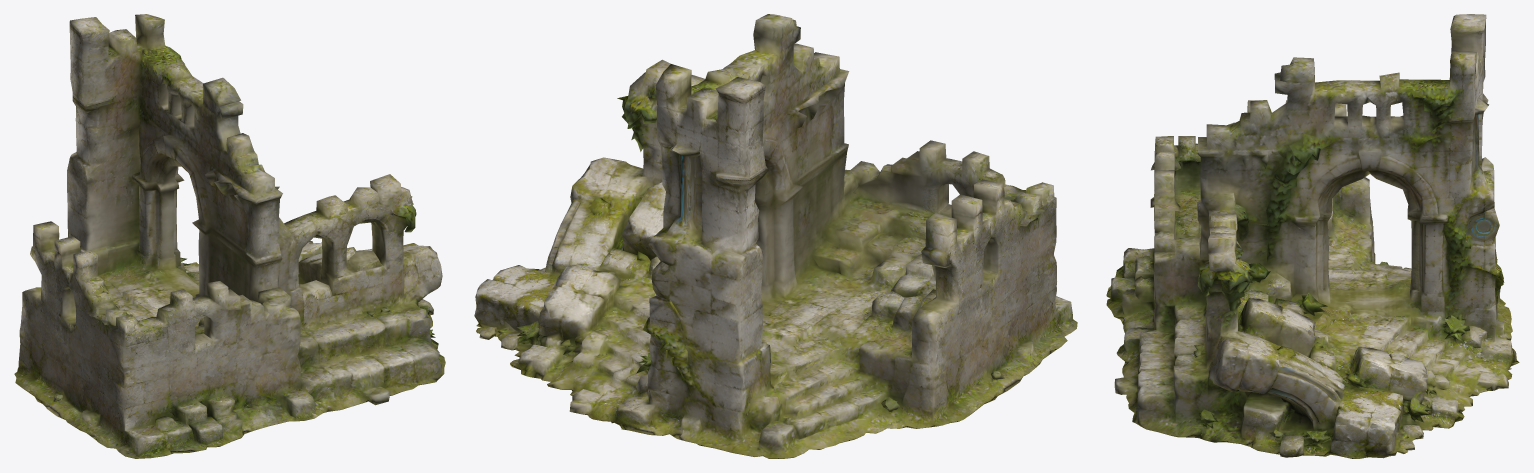
The model's file is env_rubble.glb.
The picture shows the model from 3 angles, left to right: view 1: azimuth 30°, elevation 25°; view 2: azimuth 150°, elevation 25°; view 3: azimuth 270°, elevation 25°; orthographic projection. The views are drawn at different scales.
Parts seen in each view (by area): view 1: tripo_node_a3588b53-8daa-4caa-9634-aae7a409d8ed; view 2: tripo_node_a3588b53-8daa-4caa-9634-aae7a409d8ed; view 3: tripo_node_a3588b53-8daa-4caa-9634-aae7a409d8ed.
Part boxes in pixels (x1,y1,x2,y2): tripo_node_a3588b53-8daa-4caa-9634-aae7a409d8ed: [14, 14, 445, 458]; tripo_node_a3588b53-8daa-4caa-9634-aae7a409d8ed: [474, 14, 1077, 458]; tripo_node_a3588b53-8daa-4caa-9634-aae7a409d8ed: [1106, 14, 1519, 458].
Size of the model in its own units: 1 by 0.7008 by 0.8604.
1 material, 1 textured.
